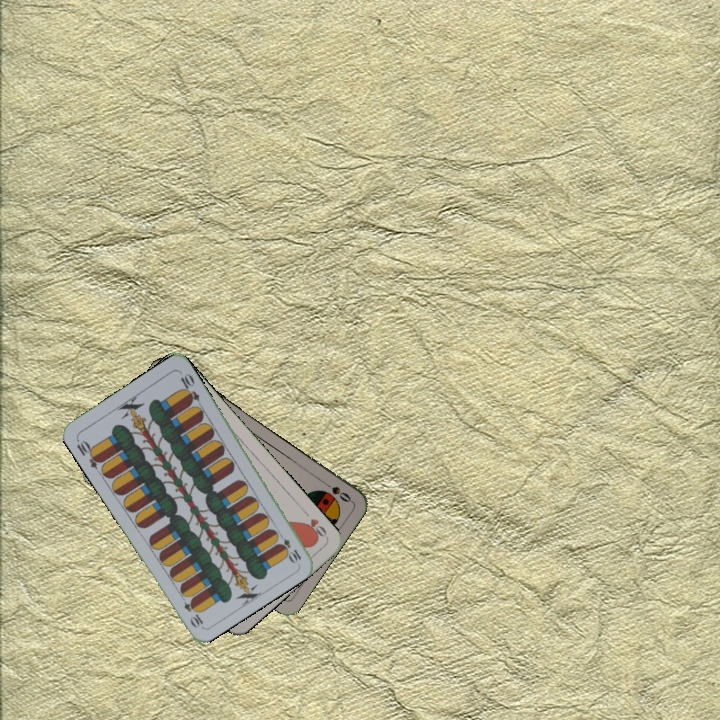E10: (72, 435, 105, 471), (273, 528, 304, 565)
HO: (299, 506, 330, 542)
SO: (318, 476, 354, 505)
